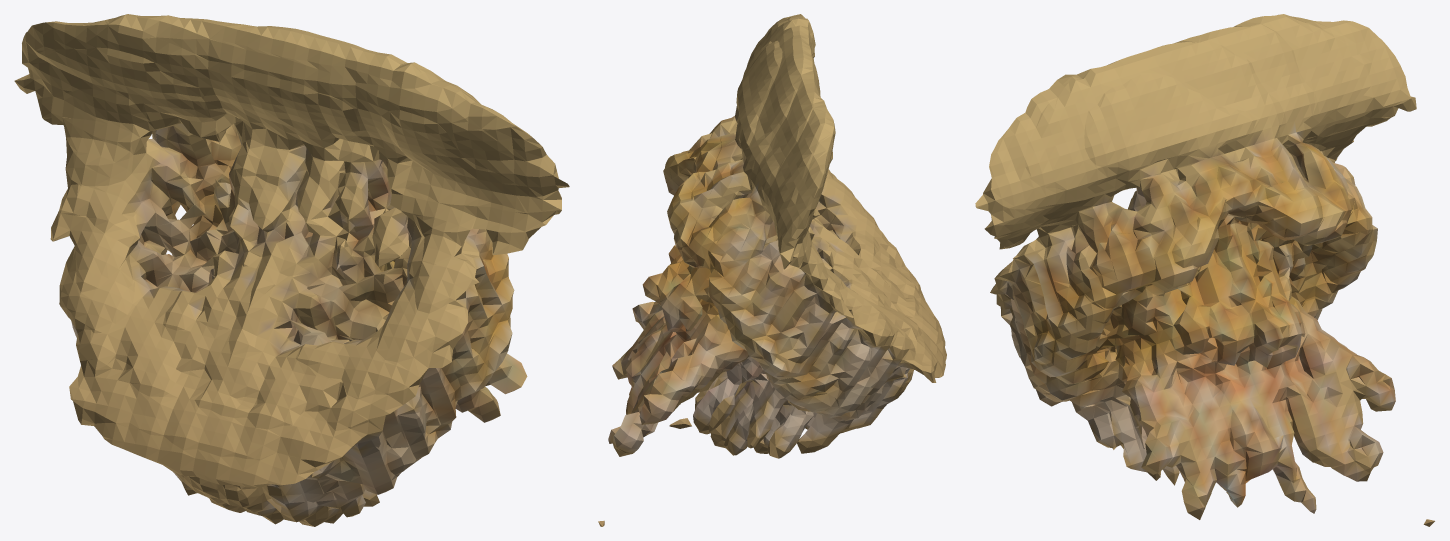
Rendered from amber_circle.glb.
3 views of the same model, side by side, from view 1: azimuth 30°, elevation 25°; view 2: azimuth 150°, elevation 25°; view 3: azimuth 270°, elevation 25° (orthographic). The views are drawn at different scales.
Visible parts, largest first — view 1: world; view 2: world; view 3: world.
Boxes of the visible parts, x1=… form: world: x1=14, y1=14, x2=569, y2=526; world: x1=598, y1=14, x2=946, y2=526; world: x1=975, y1=14, x2=1434, y2=526.
Bounding box in the file's own units: 3.37 × 4 × 3.81.
